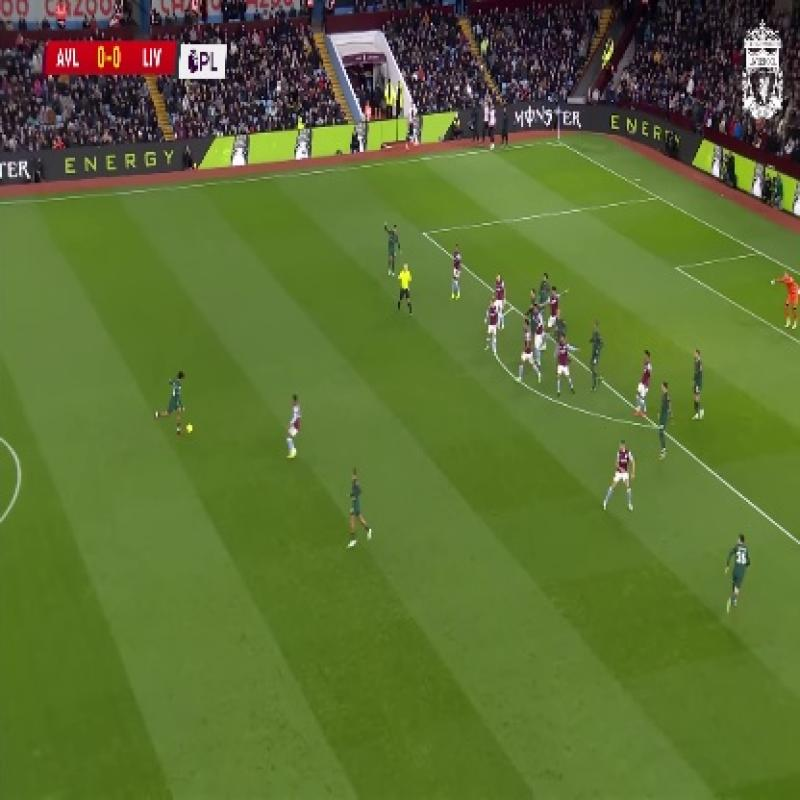1: (546, 132, 567, 148)
10: (504, 296, 522, 316)
11: (648, 414, 667, 436)
2: (648, 186, 666, 206)
3: (750, 240, 769, 262)
7: (666, 254, 684, 277)
9: (414, 219, 432, 243)
c: (7, 444, 32, 486)
